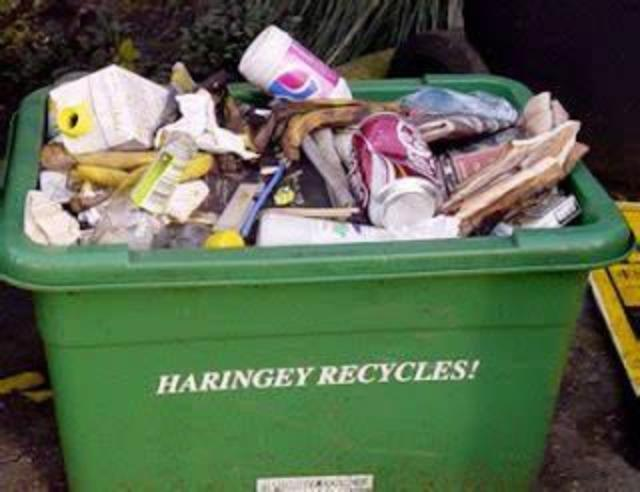Garbage: (17, 16, 623, 254)
Plastic_Container: (239, 25, 351, 100)
Plastic_bottle: (92, 132, 198, 249)
Tetrapack: (50, 65, 169, 154)
can: (349, 112, 445, 229)
